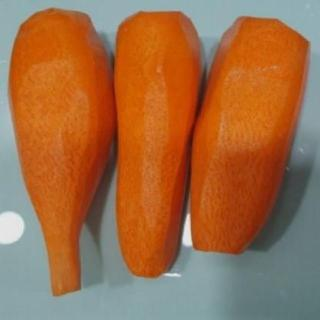carrot: (2, 4, 116, 314), (191, 11, 309, 257), (112, 10, 205, 284)
